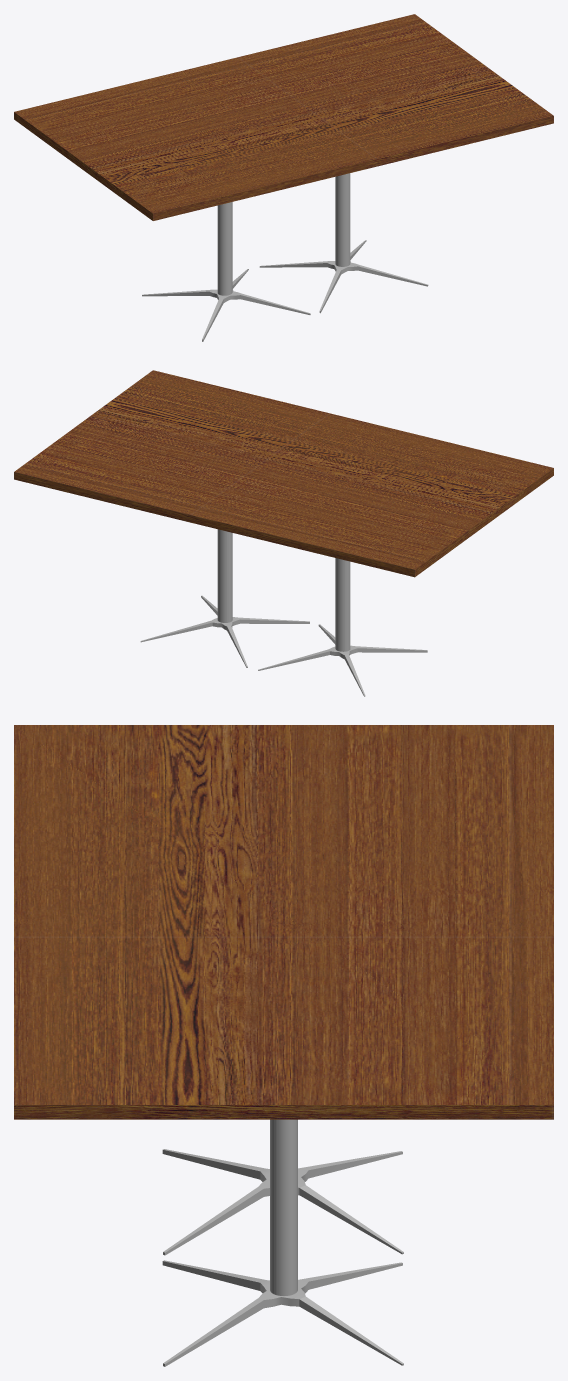
Rendered from Mesa.fbx.
The picture shows the model from 3 angles, top to bottom: view 1: azimuth 30°, elevation 25°; view 2: azimuth 150°, elevation 25°; view 3: azimuth 270°, elevation 25°; orthographic projection. The views are drawn at different scales.
Visible parts, largest first — view 1: Table, Base; view 2: Table, Base; view 3: Table, Base.
Part boxes in pixels (x1,y1,x2,y2): Table: (14,14,553,220); Base: (142,173,428,341); Table: (14,370,553,577); Base: (140,529,427,696); Table: (14,725,553,1119); Base: (162,1119,403,1366).
Size of the model in its own units: 2015 by 854 by 1211.
